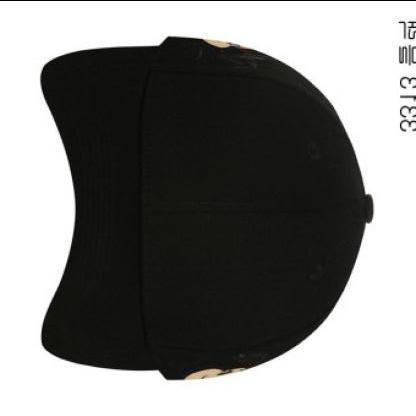cap: (29, 25, 387, 392)
